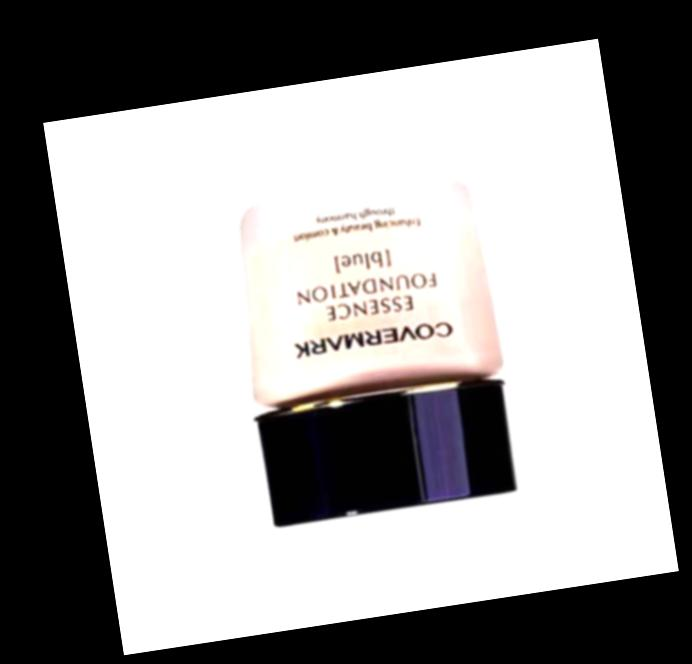cosmetic: (220, 167, 524, 528)
